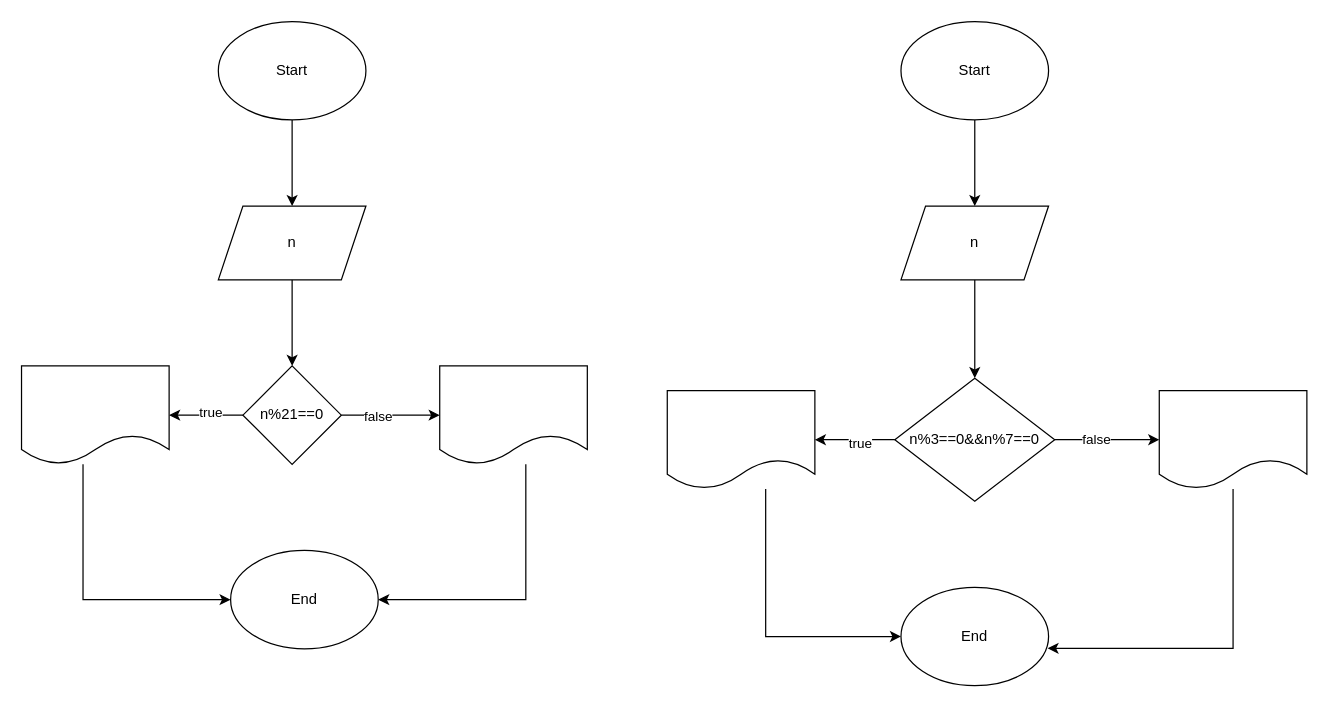
Image size: 1328x707. Some labels were removed from this diagram. The centre of each missing label's shape, as x and y in pixels:
3 ve 7-ye bolunmur: [512,414]
3 ve 7-ye bolunur: [94,414]
bolunmur: [1232,439]
bolunur: [740,439]
